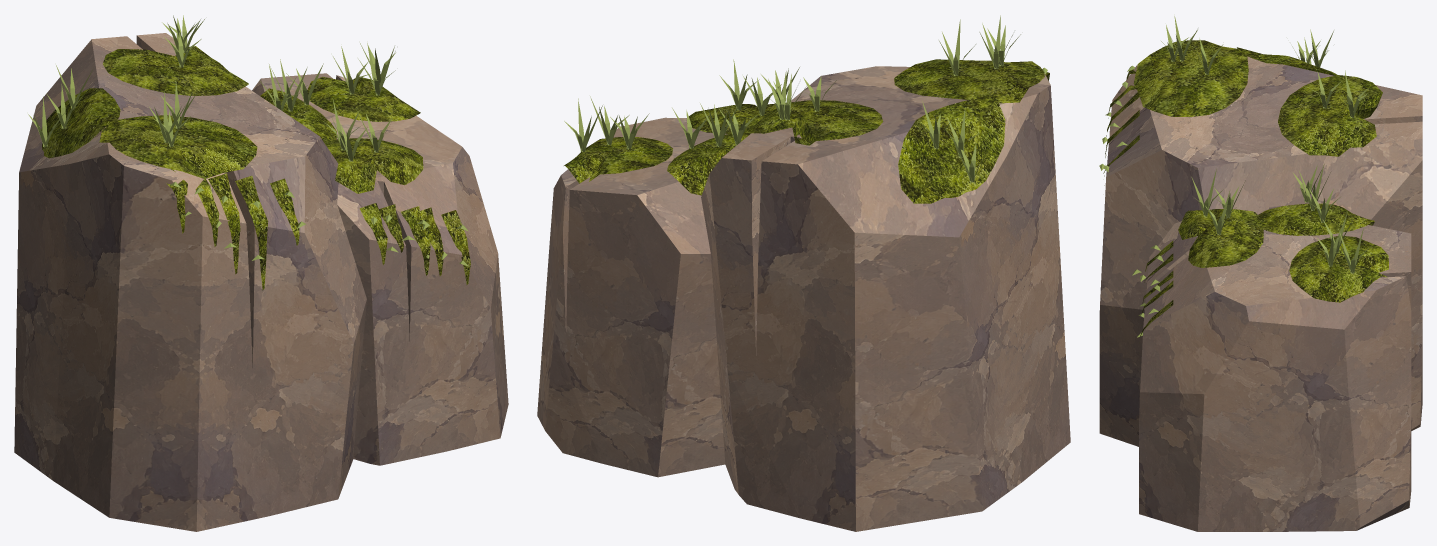
File: split-boulder.glb
The picture shows the model from 3 angles, left to right: view 1: azimuth 30°, elevation 25°; view 2: azimuth 150°, elevation 25°; view 3: azimuth 270°, elevation 25°; orthographic projection. The views are drawn at different scales.
Visible parts, largest first — view 1: split-boulder__stone, split-boulder__moss, split-boulder__plants; view 2: split-boulder__stone, split-boulder__moss, split-boulder__plants; view 3: split-boulder__stone, split-boulder__moss, split-boulder__plants.
Part boxes in pixels (x1=…): split-boulder__stone: x1=14, y1=33, x2=508, y2=531; split-boulder__moss: x1=41, y1=46, x2=470, y2=290; split-boulder__plants: x1=28, y1=15, x2=468, y2=266; split-boulder__stone: x1=537, y1=66, x2=1070, y2=531; split-boulder__moss: x1=564, y1=59, x2=1049, y2=203; split-boulder__plants: x1=564, y1=15, x2=1047, y2=182; split-boulder__stone: x1=1099, y1=56, x2=1422, y2=531; split-boulder__moss: x1=1103, y1=40, x2=1388, y2=342; split-boulder__plants: x1=1099, y1=16, x2=1370, y2=337.
Bounding box in the file's own units: 2.49 × 2.26 × 1.85.
Materials: 3 (2 with a texture image).
